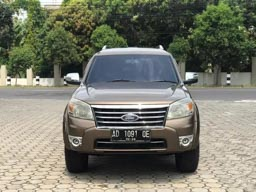plat: (109, 127, 153, 137)
